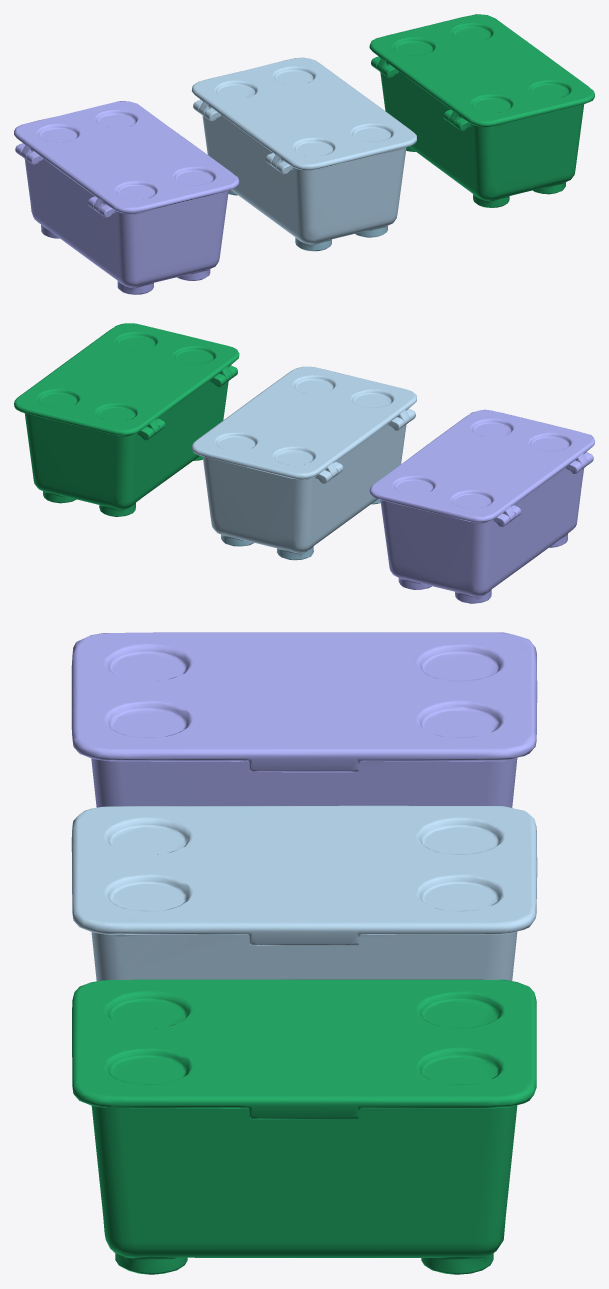
File: glis_pudeko_z_pokrywka_00604118.glb
3 renders of one model, top to bottom at view 1: azimuth 30°, elevation 25°; view 2: azimuth 150°, elevation 25°; view 3: azimuth 270°, elevation 25°, orthographic. The views are drawn at different scales.
Visible parts, largest first — view 1: glis_pudeko_z_pokrywka_00604118; view 2: glis_pudeko_z_pokrywka_00604118; view 3: glis_pudeko_z_pokrywka_00604118.
Boxes of the visible parts, x1,y1,x2,y2 form: glis_pudeko_z_pokrywka_00604118: (14, 14, 594, 294); glis_pudeko_z_pokrywka_00604118: (14, 323, 594, 603); glis_pudeko_z_pokrywka_00604118: (71, 632, 537, 1274).
Bounding box in the file's own units: 0.4091 × 0.0793 × 0.1701.
Materials: 3 (3 with a texture image).
